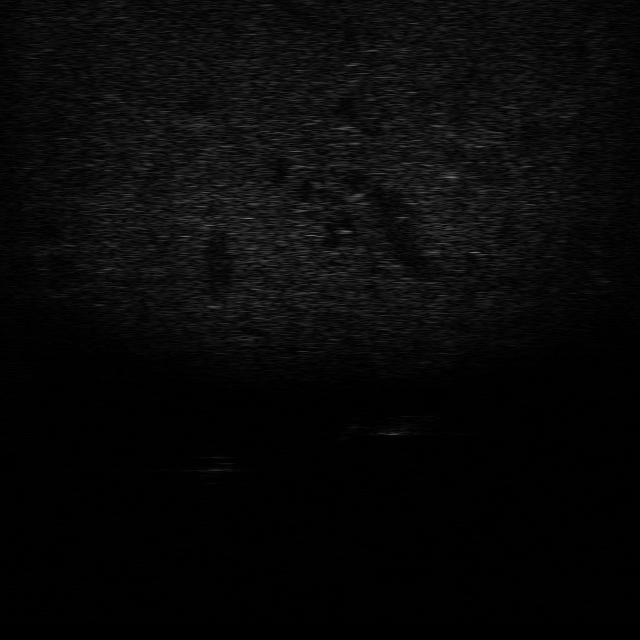ball: (188, 451, 242, 475)
human body: (335, 408, 443, 439)
